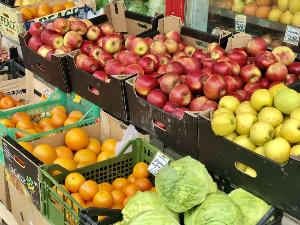apple: (133, 42, 299, 108), (21, 28, 178, 87), (218, 79, 300, 165)
orange: (54, 144, 168, 212), (16, 122, 124, 186), (1, 97, 97, 143), (3, 1, 82, 22)
